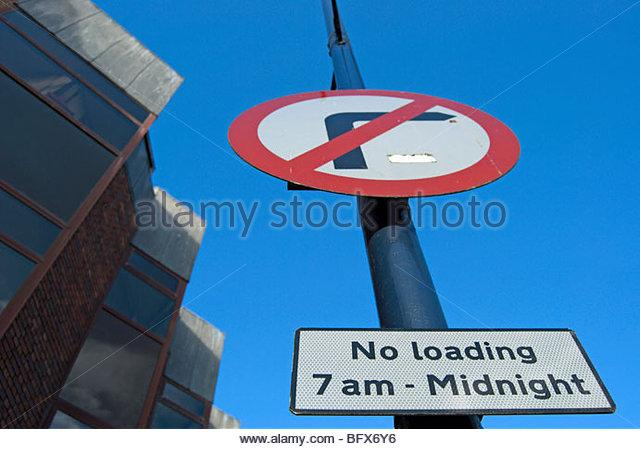no_right_turn: (228, 88, 521, 195)
